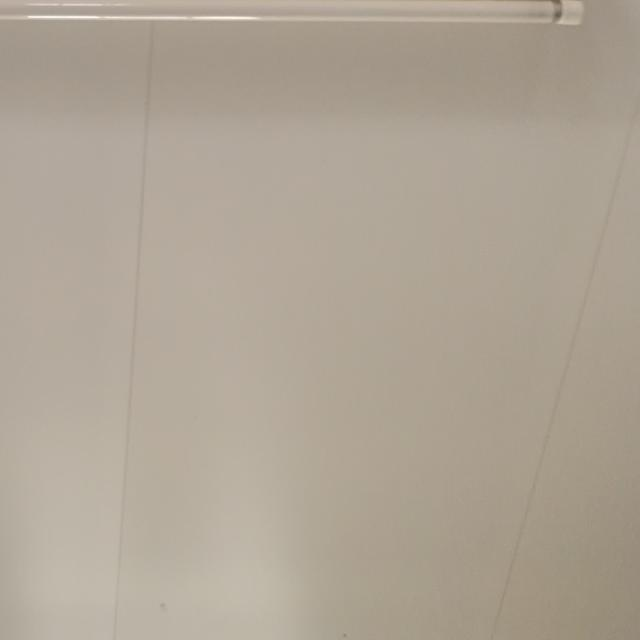fluorescent tube: (0, 0, 605, 87)
